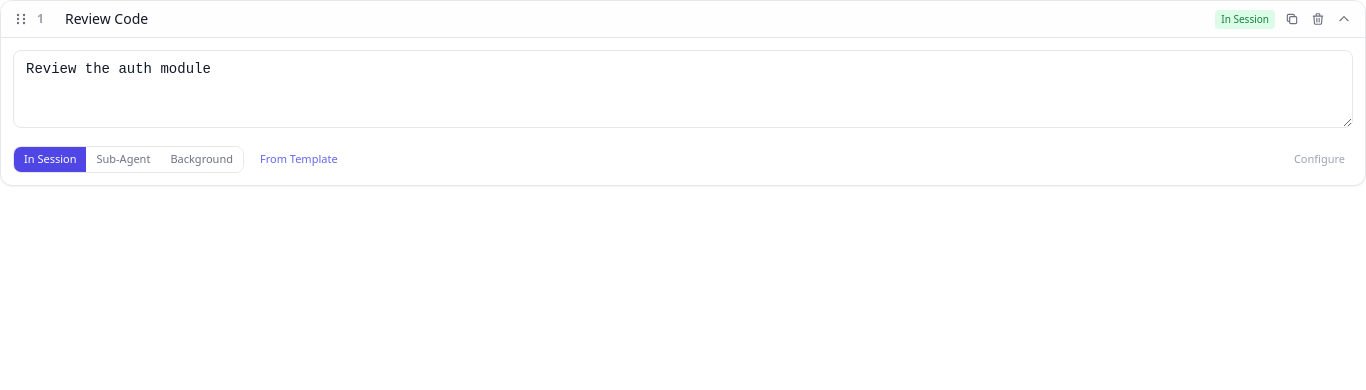
StepCard › shows configure panel when Configure is clicked
Click the button "Configure" at (1319, 159), box left=1286, top=147, right=1353, bottom=172
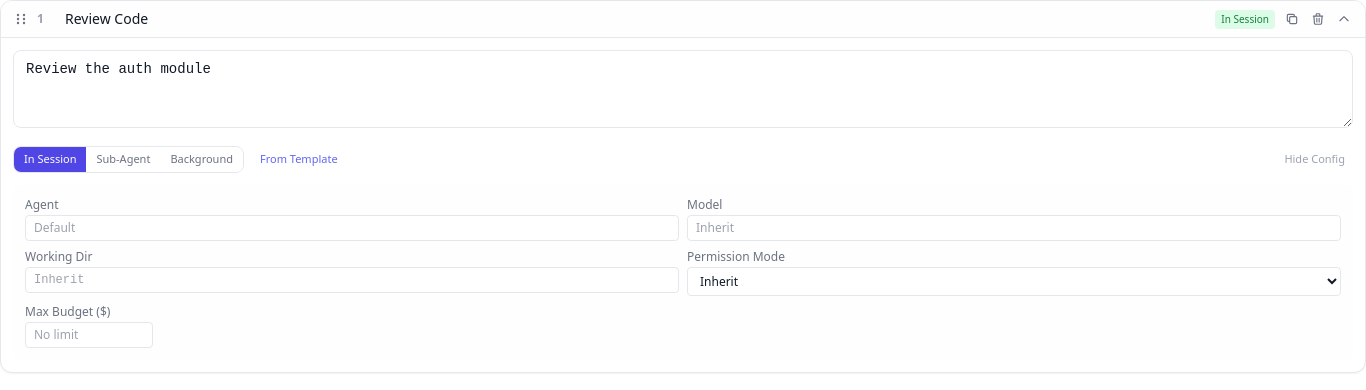
Result: the text "Agent" is shown at left=25, top=196, right=59, bottom=212
Result: the text "Model" is shown at left=687, top=196, right=722, bottom=212
Result: the text "Working Dir" is shown at left=25, top=248, right=92, bottom=264
